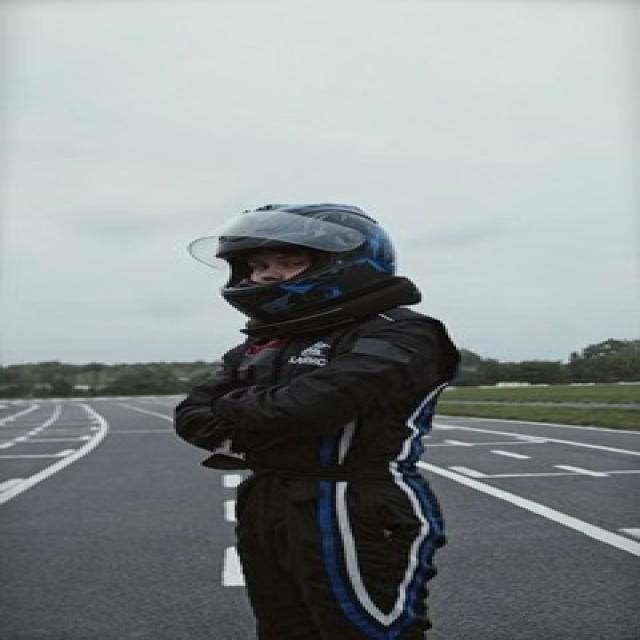Helmet_Wearer: (199, 203, 442, 321)
Jacket_Wearer: (190, 300, 496, 500)
Person: (175, 194, 472, 635)
